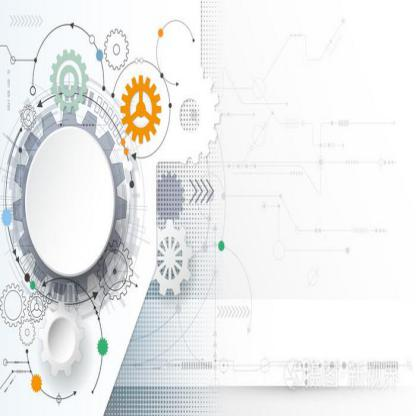FOD: (10, 102, 128, 300), (149, 219, 194, 301), (38, 300, 84, 380), (119, 69, 162, 148)
